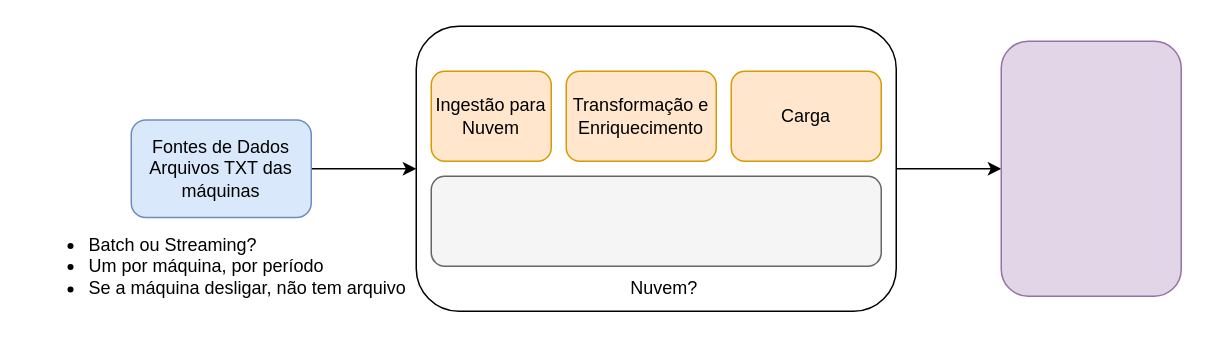
Image size: 1208x353. Some labels were removed from this diagram. Each missing label, with the centre of its shape:
"Banco de Dados" goes at (655,220).
"Sistema de Estoque Sistema de Manutenção Relatórios e Visualização" goes at (1090,168).
